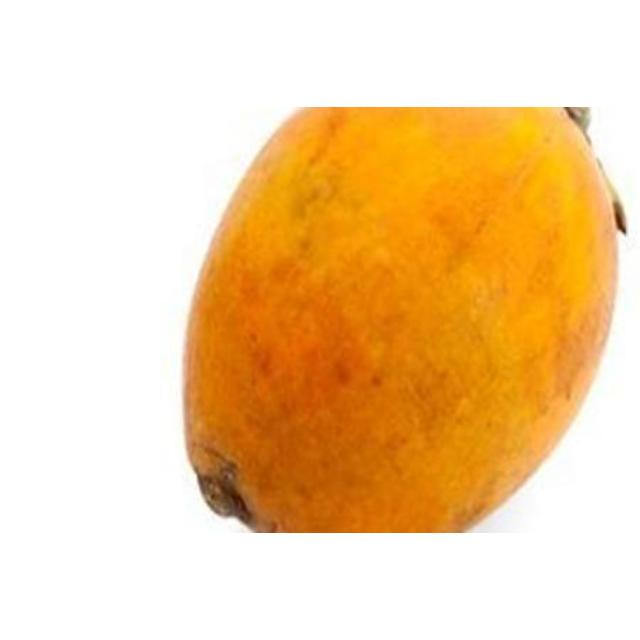good: (182, 107, 623, 532)
